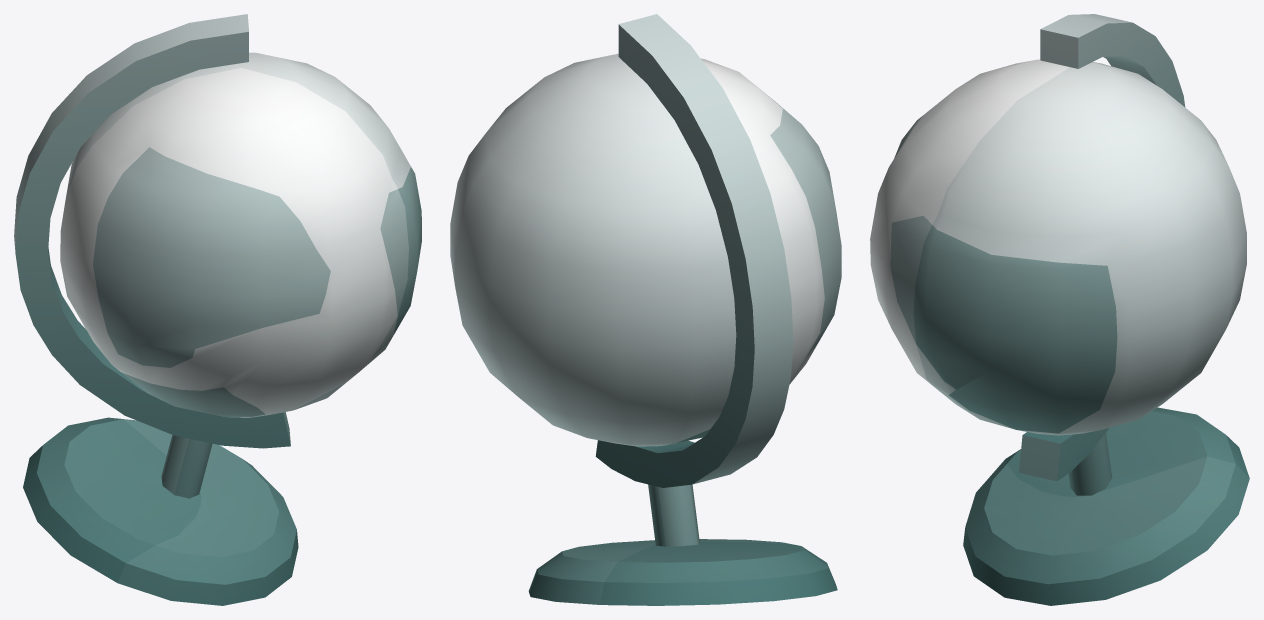
File: Knowledge_Globe.fbx
3 views of the same model, side by side, from view 1: azimuth 30°, elevation 25°; view 2: azimuth 150°, elevation 25°; view 3: azimuth 270°, elevation 25° (orthographic). The views are drawn at different scales.
Visible parts, largest first — view 1: Knowledge_Globe; view 2: Knowledge_Globe; view 3: Knowledge_Globe.
Part boxes in pixels (left/top/right/bottom): Knowledge_Globe: left=14, top=14, right=421, bottom=605; Knowledge_Globe: left=450, top=14, right=841, bottom=605; Knowledge_Globe: left=870, top=14, right=1249, bottom=605.
Bounding box in the file's own units: 14.22 × 21.61 × 13.39.
